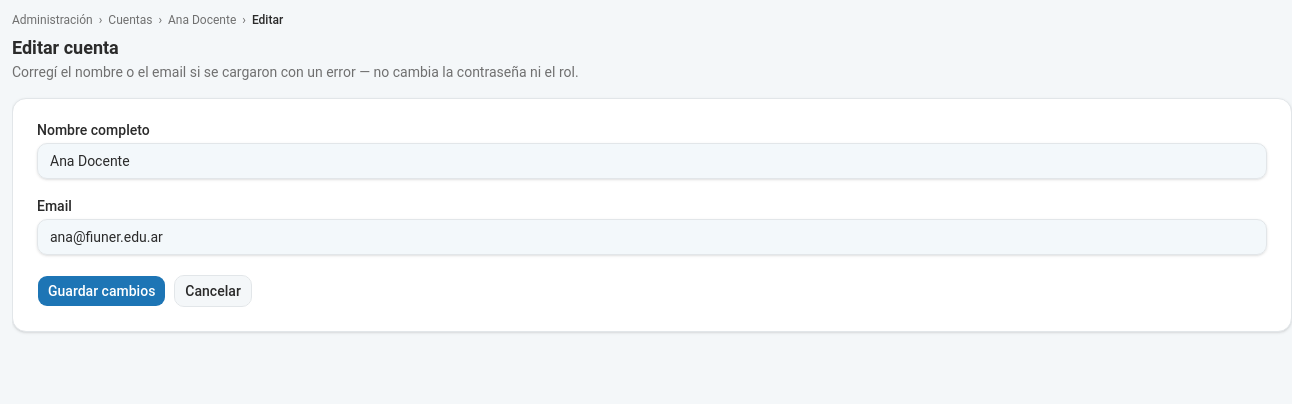
Test: EditarCuenta › muestra un error si el email ya pertenece a otra cuenta (409)
Replace the text in the field labelled "Email" with "otra@fiuner.edu.ar": [652, 237] box [37,219,1267,255]
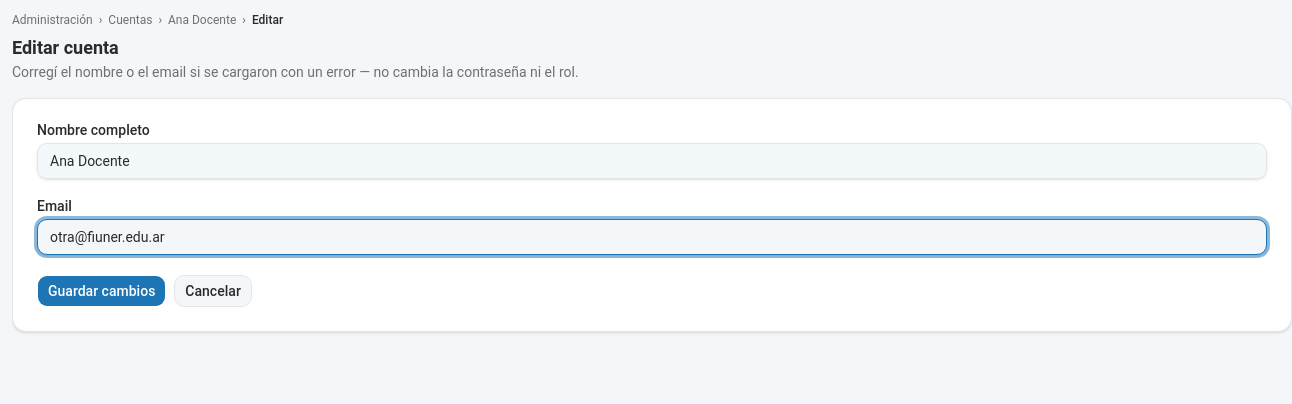
Click the button "Guardar cambios": [102, 291] box [37,275,166,307]
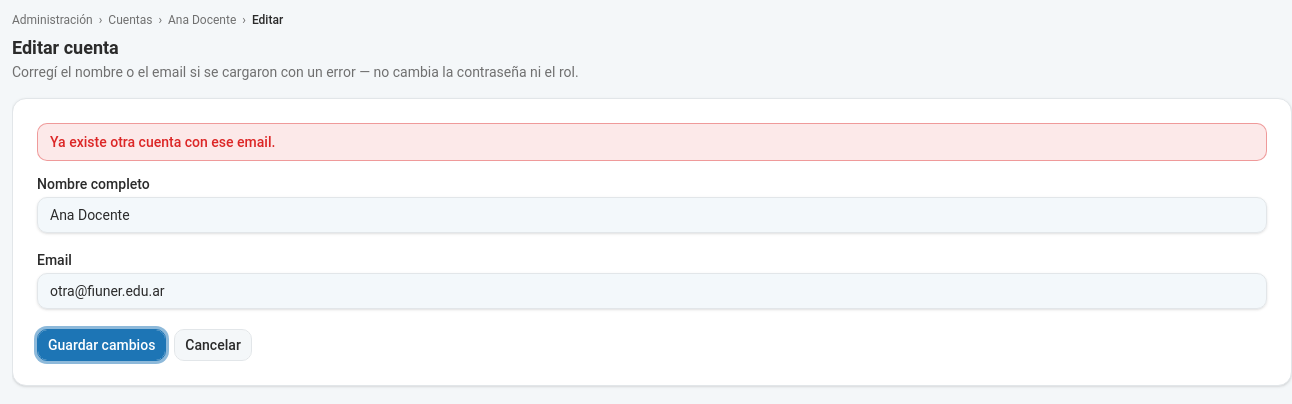
Now the message shows "Ya existe otra cuenta", box [50,134,276,150]
